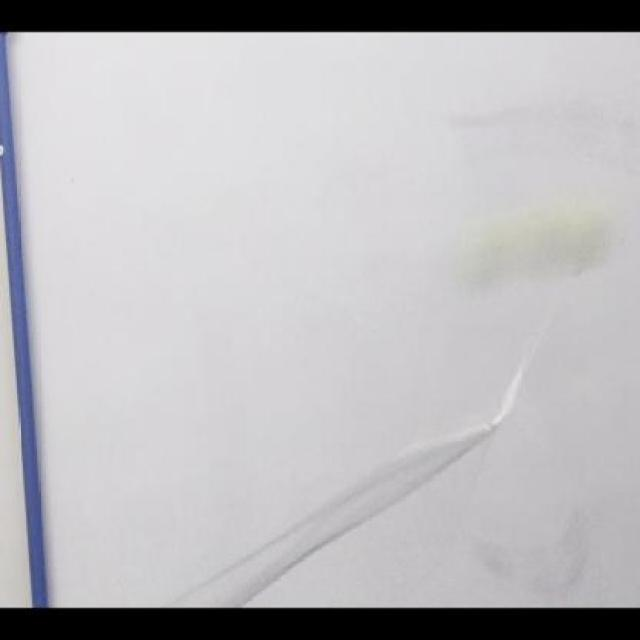baseball: (458, 188, 610, 294)
